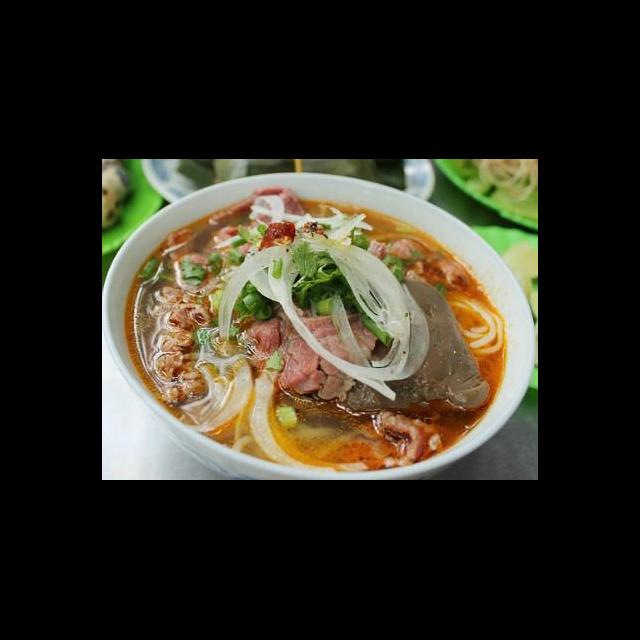bun: (225, 416, 372, 478), (441, 288, 506, 359)
bun bo: (114, 184, 521, 457)
thit bo: (231, 297, 391, 403), (162, 182, 309, 290), (360, 232, 477, 294), (371, 408, 450, 472)
